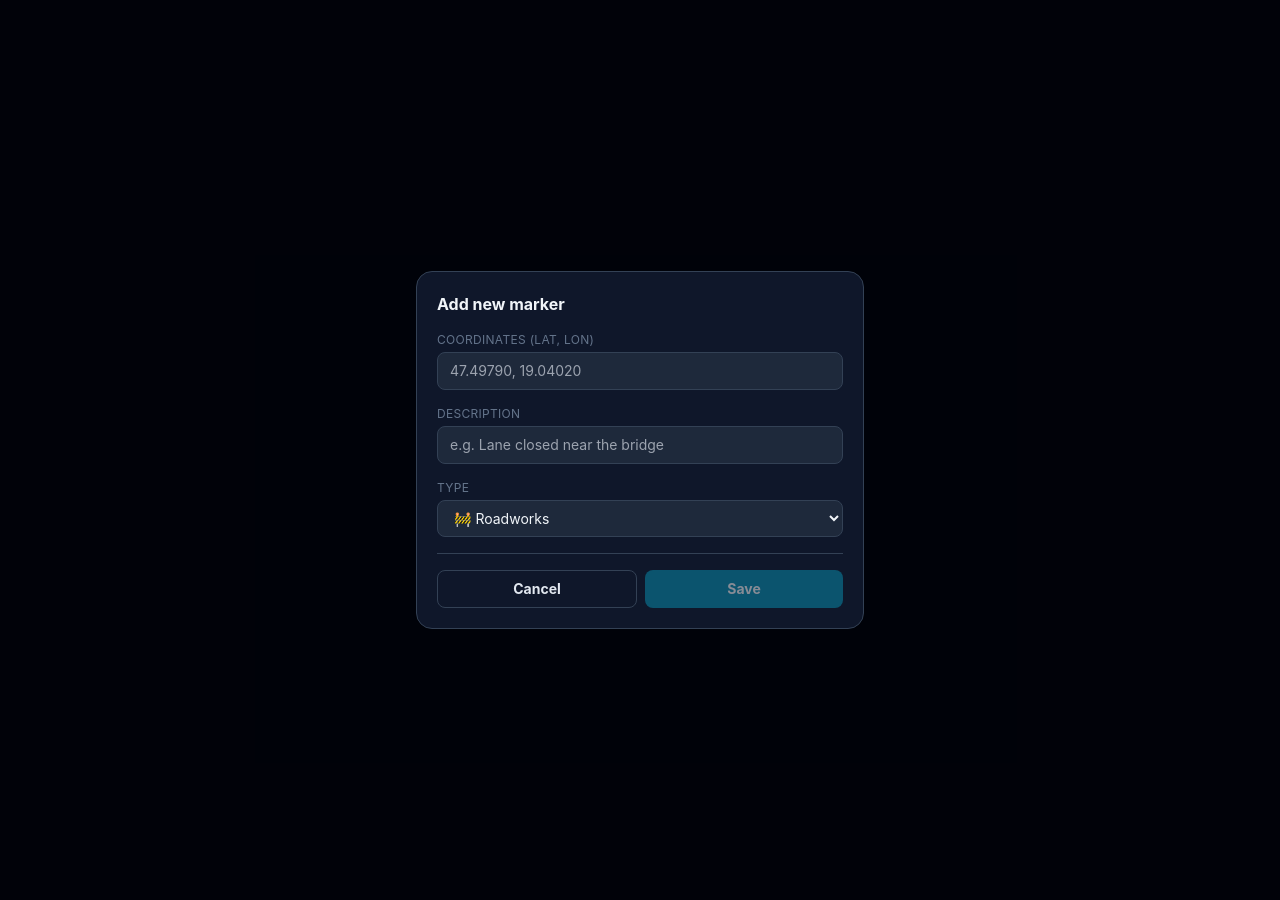
it: AddMarkerDialog › Save button is enabled for valid coordinates
Type "47.49, 19.04" into the field with placeholder "47.49790, 19.04020" at point(640, 371), box [437, 352, 843, 390]
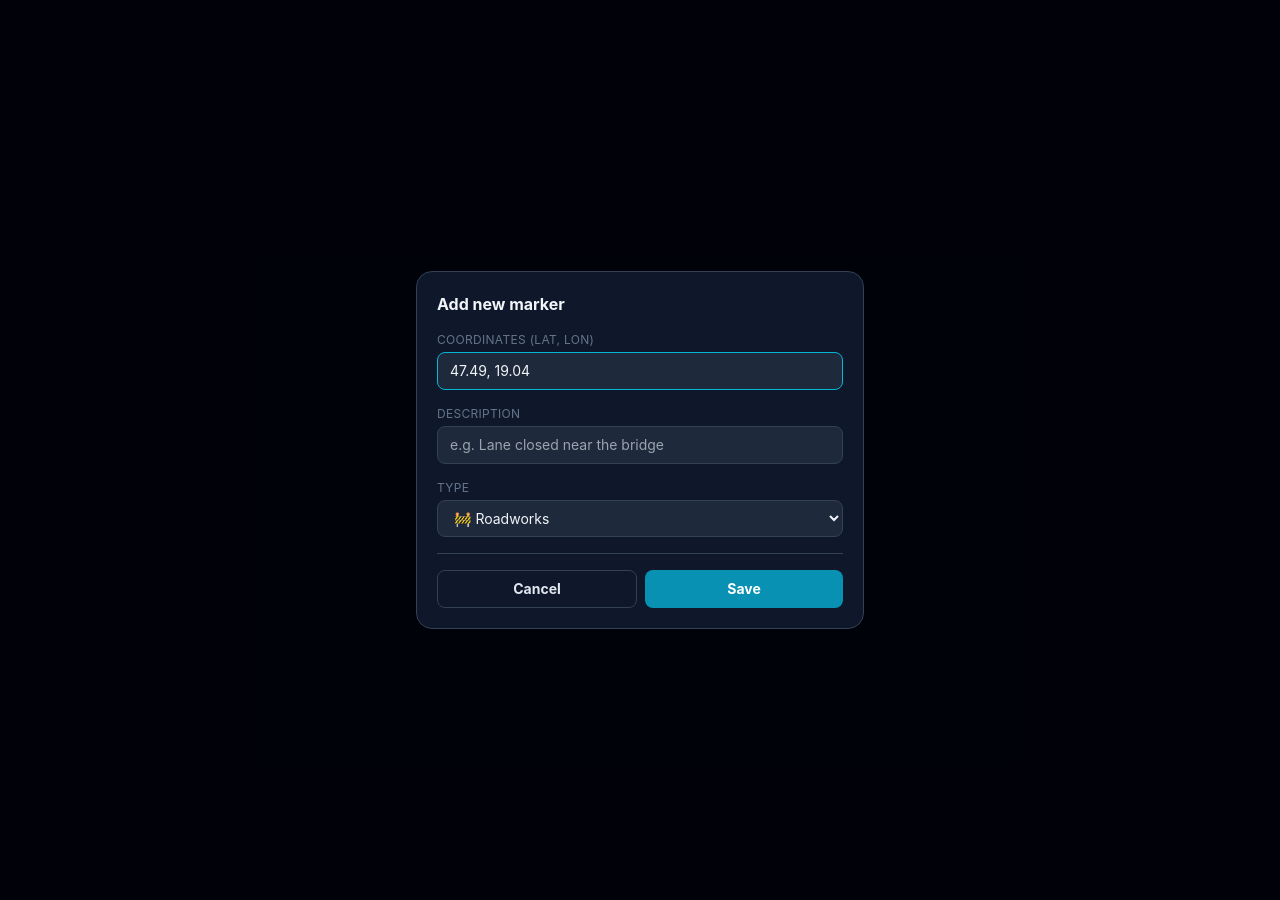
Check: the button "Save" is enabled, box [645, 570, 843, 608]
